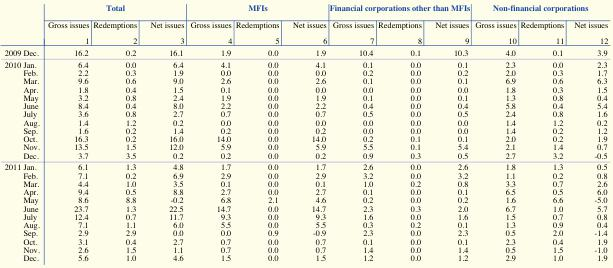table: (3, 4, 607, 262)
table column: (90, 4, 143, 262), (233, 4, 285, 262), (375, 4, 427, 262), (517, 4, 568, 262), (327, 4, 375, 262), (43, 4, 90, 262), (186, 4, 233, 262), (471, 4, 517, 262), (427, 4, 471, 262), (143, 4, 186, 262), (285, 4, 327, 262), (568, 4, 607, 262), (21, 4, 43, 262), (3, 4, 21, 262)
table column header: (3, 4, 607, 47)
table row: (3, 16, 607, 47), (3, 4, 607, 16), (3, 47, 607, 58), (3, 58, 607, 68), (3, 151, 607, 161), (3, 161, 607, 171), (3, 68, 607, 77), (3, 101, 607, 110), (3, 134, 607, 143), (3, 187, 607, 196), (3, 212, 607, 221), (3, 245, 607, 254), (3, 77, 607, 85), (3, 85, 607, 93), (3, 93, 607, 101), (3, 110, 607, 118), (3, 118, 607, 126), (3, 126, 607, 134), (3, 143, 607, 151), (3, 171, 607, 179), (3, 179, 607, 187), (3, 196, 607, 204), (3, 204, 607, 212), (3, 221, 607, 229), (3, 229, 607, 237), (3, 237, 607, 245), (3, 254, 607, 262)
table spanning cell: (3, 58, 21, 161), (3, 161, 21, 262), (327, 4, 471, 16), (43, 4, 186, 16), (186, 4, 327, 16), (471, 4, 607, 16)
